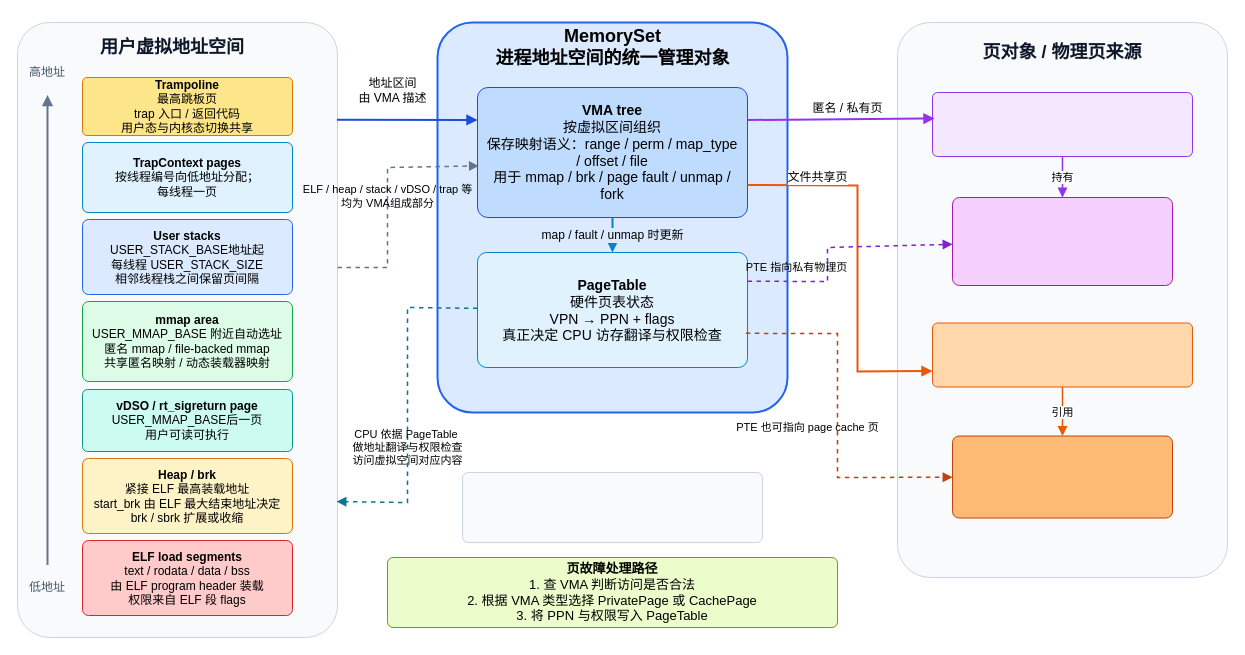
Some shapes in this 1245 by 655 pixel diagram are drawn without their labels. The shapes that lost their labels are listed below. From the top down, each one's box as (x1, y1, x2, y2) in pixels, then its label:
(932, 92, 1192, 156): data_frames 匿名页 / 私有页集合
(952, 196, 1172, 286): PrivatePage 进程私有物理页 常见来源：匿名 mmap、heap、stack、COW 后私有副本
(932, 322, 1192, 387): direct_cache_pages 直接关联页缓存页
(952, 435, 1172, 518): CachePage 文件共享页 / page cache 适合 file-backed mmap 与共享映射
(462, 472, 762, 542): 核心关系 VMA 是“应该怎么映射”的语义元数据；PageTable 是“当前已经怎么映射”的硬件状态。
